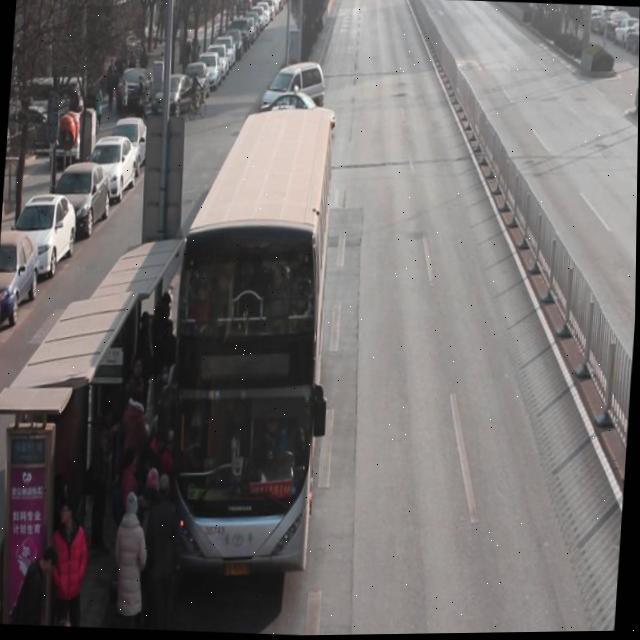car: (259, 85, 339, 136)
truck: (260, 60, 328, 128)
van: (166, 96, 338, 566)
